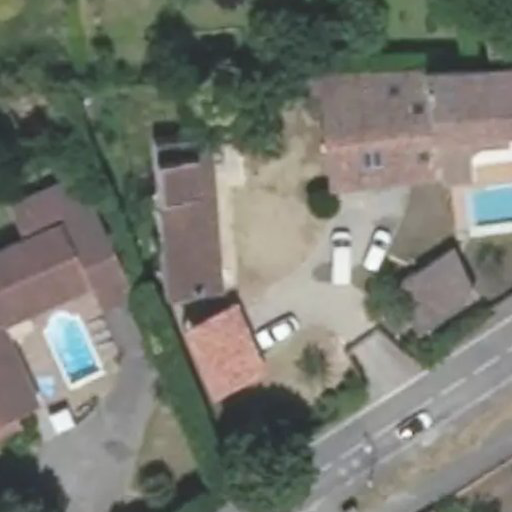pool: (224, 183, 288, 299)
